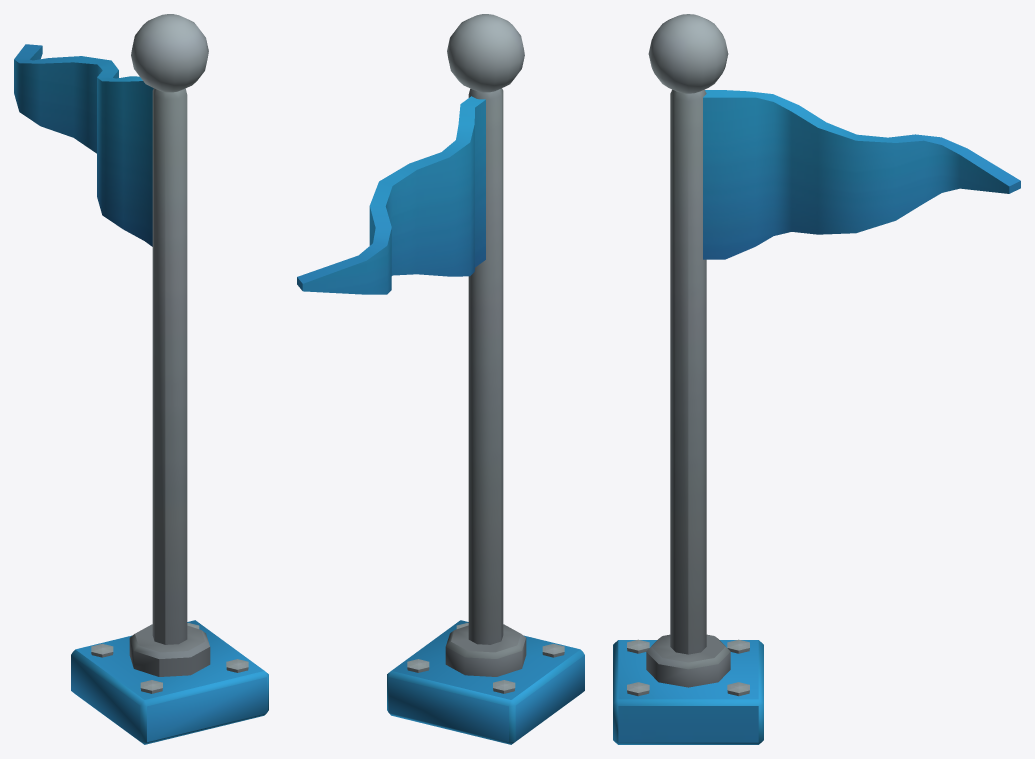
The model's file is kit-bendera-2.glb.
3 views of the same model, side by side, from view 1: azimuth 30°, elevation 25°; view 2: azimuth 150°, elevation 25°; view 3: azimuth 270°, elevation 25° (orthographic).
Parts seen in each view (by area): view 1: flag_B_blue; view 2: flag_B_blue; view 3: flag_B_blue.
Part boxes in pixels (x1=…): flag_B_blue: x1=14, y1=14, x2=268, y2=744; flag_B_blue: x1=297, y1=14, x2=584, y2=744; flag_B_blue: x1=613, y1=14, x2=1020, y2=744.
Size of the model in its own units: 0.4308 by 2.2 by 1.17.
Materials: 1 (1 with a texture image).
